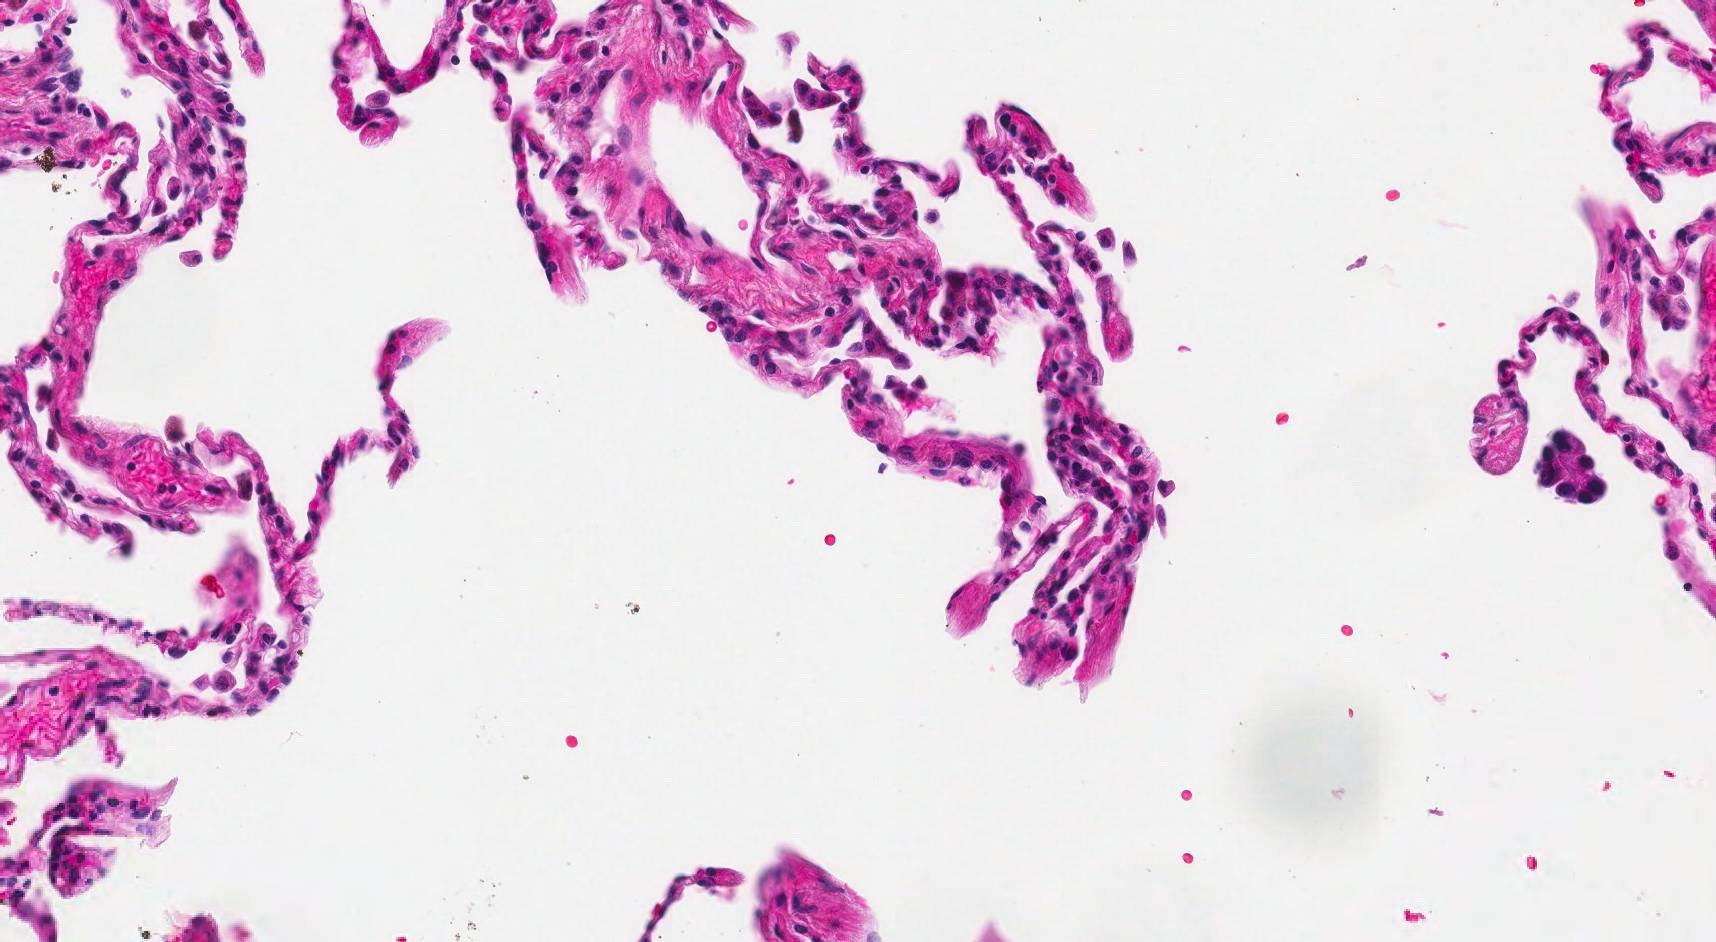stas: (1532, 428, 1610, 506)
